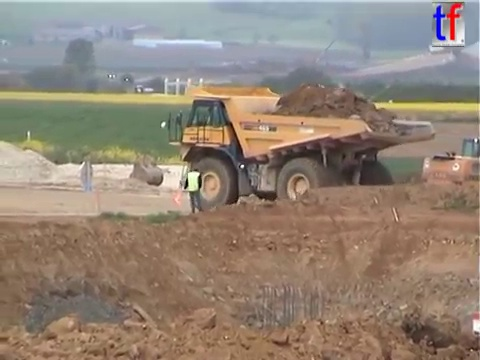excavator: (418, 136, 480, 204)
truck: (158, 82, 438, 218)
worker: (178, 166, 206, 217)
